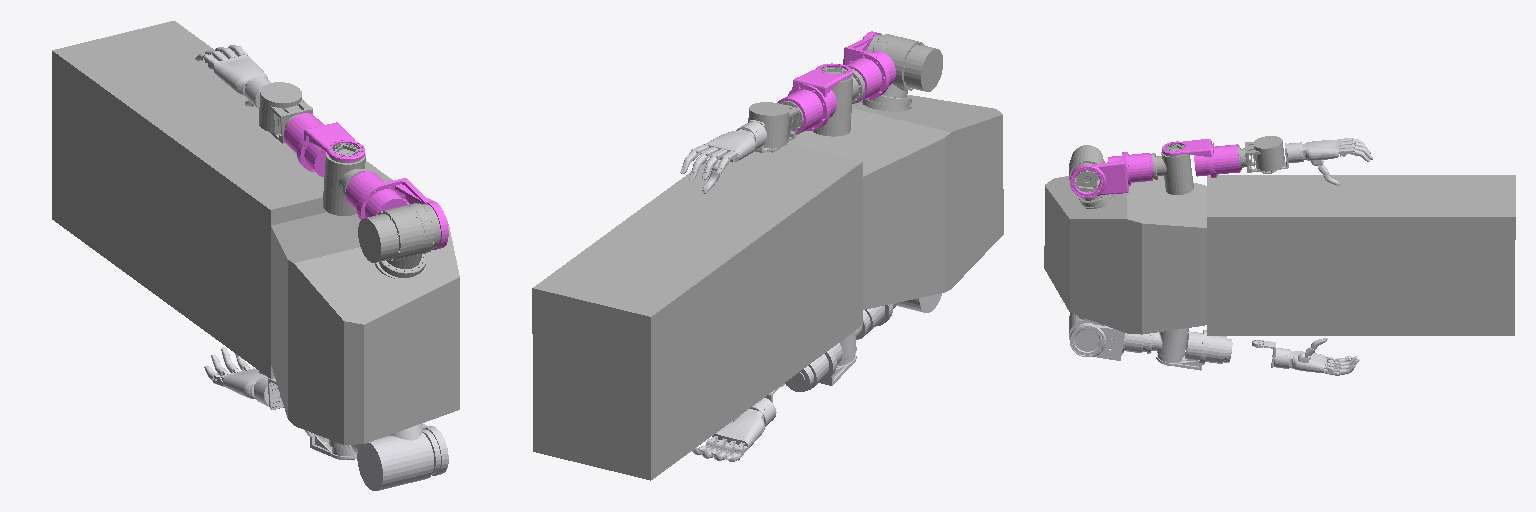
The robot description file, URDF, robot "newnursing":
<robot
  name="newnursing">

  <link name="world"/>
  <joint
        name="base_connected2_world"
        type="fixed">
        <origin
        xyz="0 0 0.7"
        rpy="0 1.57 -1.570796" />
        <parent
        link="world" />
        <child
        link="base_Link" />
  </joint>

  <link
    name="base_Link">
    <inertial>
      <origin
        xyz="0.00125118023217667 0.00571211217189015 -0.140709209620161"
        rpy="0 0 0" />
      <mass
        value="95.5038362880811" />
      <inertia
        ixx="11.0907233740476"
        ixy="0.000682554632591413"
        ixz="-0.0517799038169192"
        iyy="11.3066493157079"
        iyz="0.493087614689815"
        izz="1.35548319771507" />
    </inertial>
    <visual>
      <origin
        xyz="0 0 0"
        rpy="0 0 0" />
      <geometry>
        <mesh
          filename="package://assembly/meshes/L0.STL" />
      </geometry>
      <material
        name="">
        <color
          rgba="0.752941176470588 0.752941176470588 0.752941176470588 1" />
      </material>
    </visual>
    <collision>
      <origin
        xyz="0 0 0"
        rpy="0 0 0" />
      <geometry>
        <mesh
          filename="package://assembly/meshes/L0.STL" />
      </geometry>
    </collision>
  </link>

  <joint name="neck_link_joint" type="fixed">
    <origin xyz="0 0 1.052" rpy="0 0 0"/>
    <parent link="world"/>
    <child link="neck_link"/>
  </joint>
  <link name="neck_link"/>
  
  <joint name="camera_joint" type="fixed">
    <origin xyz="0.096 -0.006 -0.295" rpy="-0.01 -0.000528726 0"/>
    <parent link="neck_link"/>
    <child link="camera_mount_link"/>
  </joint>
  <link name="camera_mount_link"/>


  <link
    name="LR1">
    <inertial>
      <origin
        xyz="8.98828320106126E-09 -0.00293592242745783 -0.0212534141841283"
        rpy="0 0 0" />
      <mass
        value="2.15747169774314" />
      <inertia
        ixx="0.0039159844519028"
        ixy="9.55754457347691E-10"
        ixz="-2.77111575117903E-10"
        iyy="0.00365262349092814"
        iyz="0.000102299773397755"
        izz="0.00239174812495883" />
    </inertial>
    <visual>
      <origin
        xyz="0 0 0"
        rpy="0 0 0" />
      <geometry>
        <mesh
          filename="package://assembly/meshes/LR1.STL" />
      </geometry>
      <material
        name="">
        <color
          rgba="0.866666666666667 0.866666666666667 0.890196078431372 1" />
      </material>
    </visual>
    <collision>
      <origin
        xyz="0 0 0"
        rpy="0 0 0" />
      <geometry>
        <mesh
          filename="package://assembly/meshes/LR1.STL" />
      </geometry>
    </collision>
  </link>
  <joint
    name="JR1"
    type="revolute">
    <origin
      xyz="0.21718 0.005 0.33244"
      rpy="1.5708 -1.2217 3.1416" />
    <parent
      link="base_Link" />
    <child
      link="LR1" />
    <axis
      xyz="0 -1 0" />
    <limit
      lower="-2.0858"
      upper="0.6184"
      effort="120"
      velocity="0.3" />
    <dynamics
      damping="2"
      friction="0.3" />
  </joint>



  <link
    name="LR2">
    <inertial>
      <origin
        xyz="7.96974763961344E-10 0.0015000865054824 -0.0924071969744042"
        rpy="0 0 0" />
      <mass
        value="1.37522903314702" />
      <inertia
        ixx="0.00255574962153346"
        ixy="-8.72623878301597E-11"
        ixz="2.40396158064827E-10"
        iyy="0.00236365743499222"
        iyz="-0.000425917906294408"
        izz="0.00129320260941946" />
    </inertial>
    <visual>
      <origin
        xyz="0 0 0"
        rpy="0 0 0" />
      <geometry>
        <mesh
          filename="package://assembly/meshes/LR2.STL" />
      </geometry>
      <material
        name="">
        <color
          rgba="0.866666666666667 0.866666666666667 0.890196078431372 1" />
      </material>
    </visual>
    <collision>
      <origin
        xyz="0 0 0"
        rpy="0 0 0" />
      <geometry>
        <mesh
          filename="package://assembly/meshes/LR2.STL" />
      </geometry>
    </collision>
  </link>
  <joint
    name="JR2"
    type="revolute">
    <origin
      xyz="0 0 0"
      rpy="1.5708 1.6259E-14 1.7757" />
    <parent
      link="LR1" />
    <child
      link="LR2" />
    <axis
      xyz="0 -1 0" />
    <limit
      lower="-0.0199"
      upper="1.9192"
      effort="120"
      velocity="0.3" />
    <dynamics
      damping="2"
      friction="0.3" />
  </joint>


  <link
    name="LR3">
    <inertial>
      <origin
        xyz="4.65691851040707E-08 -0.0512426233861256 0.016370508405232"
        rpy="0 0 0" />
      <mass
        value="1.34826710835918" />
      <inertia
        ixx="0.00208076254874643"
        ixy="-4.03797785551324E-09"
        ixz="-4.6534220074945E-10"
        iyy="0.00184109939176927"
        iyz="0.000106562785244077"
        izz="0.00102109494898677" />
    </inertial>
    <visual>
      <origin
        xyz="0 0 0"
        rpy="0 0 0" />
      <geometry>
        <mesh
          filename="package://assembly/meshes/LR3.STL" />
      </geometry>
      <material
        name="">
        <color
          rgba="0.866666666666667 0.866666666666667 0.890196078431372 1" />
      </material>
    </visual>
    <collision>
      <origin
        xyz="0 0 0"
        rpy="0 0 0" />
      <geometry>
        <mesh
          filename="package://assembly/meshes/LR3.STL" />
      </geometry>
    </collision>
  </link>
  <joint
    name="JR3"
    type="revolute">
    <origin
      xyz="0 -0.005 -0.15692"
      rpy="1.5708 -3.3497E-15 -1.5747" />
    <parent
      link="LR2" />
    <child
      link="LR3" />
    <axis
      xyz="0 1 0" />
    <limit
      lower="-0.8610"
      upper="1.6427"
      effort="60"
      velocity="0.3" />
    <dynamics
      damping="2"
      friction="0.3" />
  </joint>


  <link
    name="LR4">
    <inertial>
      <origin
        xyz="-2.50365132705571E-10 0.00287135059851118 -0.0862731965495294"
        rpy="0 0 0" />
      <mass
        value="1.24992119764275" />
      <inertia
        ixx="0.00182610105204982"
        ixy="7.77646565831212E-12"
        ixz="-2.99027605994251E-13"
        iyy="0.00172088352354759"
        iyz="-0.000159721713914947"
        izz="0.000943726351810488" />
    </inertial>
    <visual>
      <origin
        xyz="0 0 0"
        rpy="0 0 0" />
      <geometry>
        <mesh
          filename="package://assembly/meshes/LR4.STL" />
      </geometry>
      <material
        name="">
        <color
          rgba="0.866666666666667 0.866666666666667 0.890196078431372 1" />
      </material>
    </visual>
    <collision>
      <origin
        xyz="0 0 0"
        rpy="0 0 0" />
      <geometry>
        <mesh
          filename="package://assembly/meshes/LR4.STL" />
      </geometry>
    </collision>
  </link>
  <joint
    name="JR4"
    type="revolute">
    <origin
      xyz="0 -0.056081 0"
      rpy="-1.5708 6.415E-15 -0.0064215" />
    <parent
      link="LR3" />
    <child
      link="LR4" />
    <axis
      xyz="0 -1 0" />
    <limit
      lower="-1.6955"
      upper="0.0004"
      effort="60"
      velocity="0.3" />
    <dynamics
      damping="2"
      friction="0.3" />
  </joint>


  <link
    name="LR5">
    <inertial>
      <origin
        xyz="-4.09562333173667E-07 -0.0455211167168911 -0.0126817877422067"
        rpy="0 0 0" />
      <mass
        value="0.693177401802725" />
      <inertia
        ixx="0.000866324066214255"
        ixy="-3.95415599163896E-09"
        ixz="-2.49468249606226E-09"
        iyy="0.000576262199993781"
        iyz="0.000175455226079061"
        izz="0.00064519904021367" />
    </inertial>
    <visual>
      <origin
        xyz="0 0 0"
        rpy="0 0 0" />
      <geometry>
        <mesh
          filename="package://assembly/meshes/LR5.STL" />
      </geometry>
      <material
        name="">
        <color
          rgba="0.866666666666667 0.866666666666667 0.890196078431372 1" />
      </material>
    </visual>
    <collision>
      <origin
        xyz="0 0 0"
        rpy="0 0 0" />
      <geometry>
        <mesh
          filename="package://assembly/meshes/LR5.STL" />
      </geometry>
    </collision>
  </link>
  <joint
    name="JR5"
    type="revolute">
    <origin
      xyz="0 0 -0.1476"
      rpy="1.5708 1.1861E-14 0.0046909" />
    <parent
      link="LR4" />
    <child
      link="LR5" />
    <axis
      xyz="0 1 0" />
    <limit
      lower="-1.6711"
      upper="1.6270"
      effort="60"
      velocity="0.3" />
    <dynamics
      damping="2"
      friction="0.3" />
  </joint>

  <link
    name="LR6">
    <inertial>
      <origin
        xyz="-0.00327778131852274 -0.114201821910276 0.00943175908361554"
        rpy="0 0 0" />
      <mass
        value="0.173615825258922" />
      <inertia
        ixx="0.000964616909090983"
        ixy="-1.91278655045261E-05"
        ixz="1.73215247124374E-05"
        iyy="0.000130345754178878"
        iyz="-5.80900699845923E-05"
        izz="0.000955542750560925" />
    </inertial>
    <visual>
      <origin
        xyz="0 0 0"
        rpy="0 0 0" />
      <geometry>
        <mesh
          filename="package://assembly/meshes/LR6.STL" />
      </geometry>
      <material
        name="">
        <color
          rgba="0.866666666666667 0.866666666666667 0.890196078431372 1" />
      </material>
    </visual>
    <collision>
      <origin
        xyz="0 0 0"
        rpy="0 0 0" />
      <geometry>
        <mesh
          filename="package://assembly/meshes/LR6.STL" />
      </geometry>
    </collision>
  </link>
  <joint
    name="JR6"
    type="revolute">
    <origin
      xyz="0 -0.063404 0"
      rpy="8.5792E-16 5.3161E-15 -0.0042912" />
    <parent
      link="LR5" />
    <child
      link="LR6" />
    <axis
      xyz="0 0 1" />
    <limit
      lower="-0.6010"
      upper="0.4415"
      effort="30"
      velocity="0.3" />
    <dynamics
      damping="2"
      friction="0.3" />
  </joint>


  <link name="Rplam_Link"/>
  <joint
    name="Rplam_joint"
    type="fixed">
    <origin
      xyz="-0.01 -0.151 0.032"
      rpy="-4.7783E-19 -1.5708 -9.2245E-20" />
    <parent
      link="LR6" />
    <child
      link="Rplam_Link" />
  </joint>




  <link
    name="LL1">
    <inertial>
      <origin
        xyz="-6.37042760209816E-09 -0.00311606961400701 -0.0203021739937478"
        rpy="0 0 0" />
      <mass
        value="0.742414555702471" />
      <inertia
        ixx="0.0012740812827287"
        ixy="-8.44845865087453E-11"
        ixz="-1.69158880334627E-10"
        iyy="0.00117846286241893"
        iyz="3.56009846333508E-05"
        izz="0.000802045043418103" />
    </inertial>
    <visual>
      <origin
        xyz="0 0 0"
        rpy="0 0 0" />
      <geometry>
        <mesh
          filename="package://assembly/meshes/LL1.STL" />
      </geometry>
      <material
        name="">
        <color
          rgba="0.752941176470588 0.752941176470588 0.752941176470588 1" />
      </material>
    </visual>
    <collision>
      <origin
        xyz="0 0 0"
        rpy="0 0 0" />
      <geometry>
        <mesh
          filename="package://assembly/meshes/LL1.STL" />
      </geometry>
    </collision>
  </link>
  <joint
    name="JL1"
    type="revolute">
    <origin
      xyz="-0.21718 0.005 0.33244"
      rpy="1.5708 1.2217 -3.1416" />
    <parent
      link="base_Link" />
    <child
      link="LL1" />
    <axis
      xyz="0 -1 0" />
    <limit
      lower="-0.4998"
      upper="2.5405"
      effort="120"
      velocity="0.3" />
  </joint>


  <link
    name="LL2">
    <inertial>
      <origin
        xyz="-1.59942401600777E-07 -0.0900949903759909 -0.00978996979277103"
        rpy="0 0 0" />
      <mass
        value="0.68682778469314" />
      <inertia
        ixx="0.00167905640514389"
        ixy="3.78112905492115E-09"
        ixz="-1.78536754351579E-09"
        iyy="0.000842469561542776"
        iyz="0.000406436027091152"
        izz="0.00154239526729338" />
    </inertial>
    <visual>
      <origin
        xyz="0 0 0"
        rpy="0 0 0" />
      <geometry>
        <mesh
          filename="package://assembly/meshes/LL2.STL" />
      </geometry>
      <material
        name="">
        <color
          rgba="1 0.501960784313725 1 1" />
      </material>
    </visual>
    <collision>
      <origin
        xyz="0 0 0"
        rpy="0 0 0" />
      <geometry>
        <mesh
          filename="package://assembly/meshes/LL2.STL" />
      </geometry>
    </collision>
  </link>
  <joint
    name="JL2"
    type="revolute">
    <origin
      xyz="0 0 0"
      rpy="3.1416 -7.9803E-16 -1.8108" />
    <parent
      link="LL1" />
    <child
      link="LL2" />
    <axis
      xyz="0 0 1" />
    <limit
      lower="-2.2806"
      upper="0.1269"
      effort="120"
      velocity="0.3" />
  </joint>


  <link
    name="LL3">
    <inertial>
      <origin
        xyz="3.21767517434115E-08 -0.0675560201834257 0.0139465479319382"
        rpy="0 0 0" />
      <mass
        value="0.437839302029068" />
      <inertia
        ixx="0.00058672166818976"
        ixy="-9.21102167300725E-10"
        ixz="-5.62144252678658E-11"
        iyy="0.000545687428782642"
        iyz="1.61583368753071E-05"
        izz="0.00031046233442883" />
    </inertial>
    <visual>
      <origin
        xyz="0 0 0"
        rpy="0 0 0" />
      <geometry>
        <mesh
          filename="package://assembly/meshes/LL3.STL" />
      </geometry>
      <material
        name="">
        <color
          rgba="0.752941176470588 0.752941176470588 0.752941176470588 1" />
      </material>
    </visual>
    <collision>
      <origin
        xyz="0 0 0"
        rpy="0 0 0" />
      <geometry>
        <mesh
          filename="package://assembly/meshes/LL3.STL" />
      </geometry>
    </collision>
  </link>
  <joint
    name="JL3"
    type="revolute">
    <origin
      xyz="0 -0.15287 0.005"
      rpy="5.8768E-13 1.5684 5.8279E-13" />
    <parent
      link="LL2" />
    <child
      link="LL3" />
    <axis
      xyz="0 1 0" />
    <limit
      lower="-1.1300"
      upper="1.4936"
      effort="60"
      velocity="0.3" />
  </joint>


  <link
    name="LL4">
    <inertial>
      <origin
        xyz="-2.55573985041575E-08 -0.00697068364470027 -0.0912337876171683"
        rpy="0 0 0" />
      <mass
        value="0.564926626991847" />
      <inertia
        ixx="0.00104600587867379"
        ixy="-5.19706723763342E-10"
        ixz="3.39358092068315E-10"
        iyy="0.00094490837319263"
        iyz="0.000173685315173717"
        izz="0.00052296228447961" />
    </inertial>
    <visual>
      <origin
        xyz="0 0 0"
        rpy="0 0 0" />
      <geometry>
        <mesh
          filename="package://assembly/meshes/LL4.STL" />
      </geometry>
      <material
        name="">
        <color
          rgba="1 0.501960784313725 1 1" />
      </material>
    </visual>
    <collision>
      <origin
        xyz="0 0 0"
        rpy="0 0 0" />
      <geometry>
        <mesh
          filename="package://assembly/meshes/LL4.STL" />
      </geometry>
    </collision>
  </link>
  <joint
    name="JL4"
    type="revolute">
    <origin
      xyz="0 -0.070131 0"
      rpy="1.5708 1.5909E-14 -3.1308" />
    <parent
      link="LL3" />
    <child
      link="LL4" />
    <axis
      xyz="0 1 0" />
    <limit
      lower="-0.0017"
      upper="1.7891"
      effort="60"
      velocity="0.3" />
  </joint>


  <link
    name="LL5">
    <inertial>
      <origin
        xyz="-2.7285871747723E-05 -0.0769462900817405 -0.00393937125918359"
        rpy="0 0 0" />
      <mass
        value="0.307795414476204" />
      <inertia
        ixx="0.00030350174251315"
        ixy="3.65474241742097E-07"
        ixz="4.4686800853968E-08"
        iyy="0.000210127575480133"
        iyz="-9.9553262377435E-06"
        izz="0.000294140122670997" />
    </inertial>
    <visual>
      <origin
        xyz="0 0 0"
        rpy="0 0 0" />
      <geometry>
        <mesh
          filename="package://assembly/meshes/LL5.STL" />
      </geometry>
      <material
        name="">
        <color
          rgba="0.752941176470588 0.752941176470588 0.752941176470588 1" />
      </material>
    </visual>
    <collision>
      <origin
        xyz="0 0 0"
        rpy="0 0 0" />
      <geometry>
        <mesh
          filename="package://assembly/meshes/LL5.STL" />
      </geometry>
    </collision>
  </link>
  <joint
    name="JL5"
    type="revolute">
    <origin
      xyz="0 0 -0.14672"
      rpy="1.5708 3.629E-15 3.1403" />
    <parent
      link="LL4" />
    <child
      link="LL5" />
    <axis
      xyz="0 1 0" />
    <limit
      lower="-0.9529"
      upper="1.1191"
      effort="60"
      velocity="0.3" />
  </joint>


  <link
    name="LL6">
    <inertial>
      <origin
        xyz="0.0032377127173702 -0.114191079305633 0.00943041174763107"
        rpy="0 0 0" />
      <mass
        value="0.173577655802291" />
      <inertia
        ixx="0.000964471788242522"
        ixy="1.95939539811118E-05"
        ixz="-1.73706278601833E-05"
        iyy="0.000130370358877101"
        iyz="-5.80992206345396E-05"
        izz="0.000955450552032434" />
    </inertial>
    <visual>
      <origin
        xyz="0 0 0"
        rpy="0 0 0" />
      <geometry>
        <mesh
          filename="package://assembly/meshes/LL6.STL" />
      </geometry>
      <material
        name="">
        <color
          rgba="0.866666666666667 0.866666666666667 0.890196078431372 1" />
      </material>
    </visual>
    <collision>
      <origin
        xyz="0 0 0"
        rpy="0 0 0" />
      <geometry>
        <mesh
          filename="package://assembly/meshes/LL6.STL" />
      </geometry>
    </collision>
  </link>
  <joint
    name="JL6"
    type="revolute">
    <origin
      xyz="0 -0.084276 0"
      rpy="1.5384E-15 4.1538E-15 -0.0063056" />
    <parent
      link="LL5" />
    <child
      link="LL6" />
    <axis
      xyz="0 0 1" />
    <limit
      lower="-0.4722"
      upper="0.8769"
      effort="30"
      velocity="0.3" />
  </joint>

  <link name="Lplam_Link"/>
  <joint
    name="Lplam_joint"
    type="fixed">
    <origin
      xyz="-0.01 -0.16 0.022"
      rpy="0 -1.5708 0" />
    <parent
      link="LL6" />
    <child
      link="Lplam_Link" />
  </joint>


</robot>

--- What the picture shows (computed from the rendered views, not written in the file) ---
3 views of the same robot in one strip: view 1: azimuth 30°, elevation 25°; view 2: azimuth 150°, elevation 25°; view 3: azimuth 270°, elevation 25° (orthographic).
Model newnursing with 18 links and 17 joints (12 revolute, 5 fixed), rooted at world, posed every joint at zero.
Visible links, largest first — view 1: base_Link, LL1, LR1, LL2, LL4, LL6, LR6, LL5, LL3; view 2: base_Link, LL1, LL6, LR6, LL4, LL2, LL5, LL3, LR4, LR3; view 3: base_Link, LL2, LR6, LL6, LL4, LR2, LR4, LL3, LL5, LL1, LR3, LR1.
Boxes of the visible links, box(x1,y1,x2,y2) form: base_Link: box(52, 21, 459, 444); LL1: box(358, 203, 440, 275); LR1: box(357, 424, 440, 490); LL2: box(345, 171, 448, 249); LL4: box(284, 113, 364, 176); LL6: box(195, 45, 270, 108); LR6: box(204, 348, 283, 409); LL5: box(259, 82, 312, 143); LL3: box(323, 143, 371, 215); base_Link: box(532, 95, 1003, 480); LL1: box(867, 34, 942, 102); LL6: box(680, 120, 772, 193); LR6: box(692, 383, 784, 461); LL4: box(777, 63, 852, 134); LL2: box(843, 31, 895, 102); LL5: box(748, 101, 803, 152); LL3: box(813, 67, 864, 136); LR4: box(785, 343, 856, 391); LR3: box(837, 315, 867, 365); base_Link: box(1044, 175, 1515, 335); LL2: box(1070, 152, 1153, 197); LR6: box(1252, 338, 1359, 375); LL6: box(1278, 138, 1372, 185); LL4: box(1162, 139, 1240, 177); LR2: box(1070, 324, 1150, 360); LR4: box(1156, 330, 1232, 370); LL3: box(1152, 144, 1193, 194); LL5: box(1238, 136, 1284, 173); LL1: box(1069, 145, 1111, 205); LR3: box(1147, 328, 1188, 362); LR1: box(1069, 313, 1104, 352).
Bounding box of the posed robot: 0.3332 × 1.17 × 0.6257 m (x, y, z).
Meshes: 13 distinct files referenced, 12 mesh visuals loaded (12 binary STL); not drawn: 1 (reference not matched to a file when rendering).